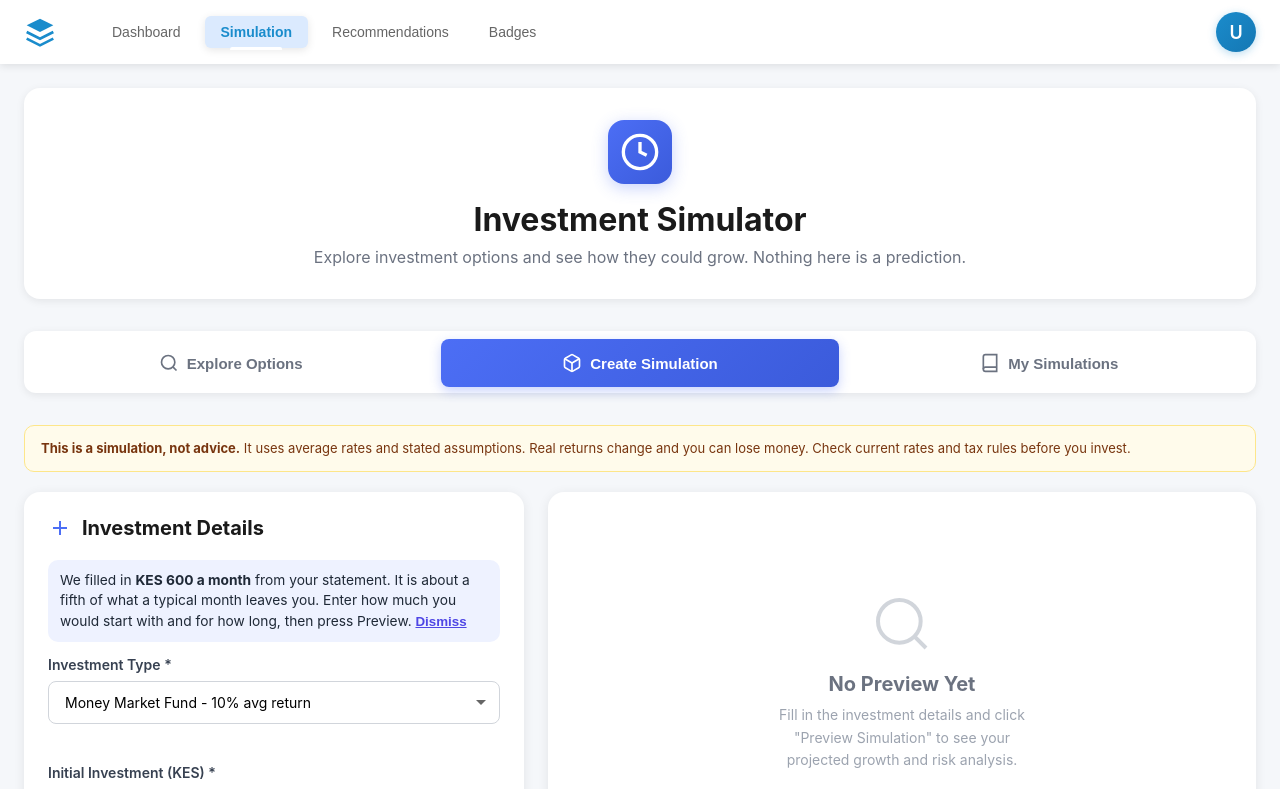
Opened from a recommendation › dismisses the note on request
The width and height of the screenshot is (1280, 789).
expect the text "We filled in" is shown: met, box [60,572,135,588]
Click the button "Dismiss": {"x": 441, "y": 622} [416,614,467,629]
(page scrolled)
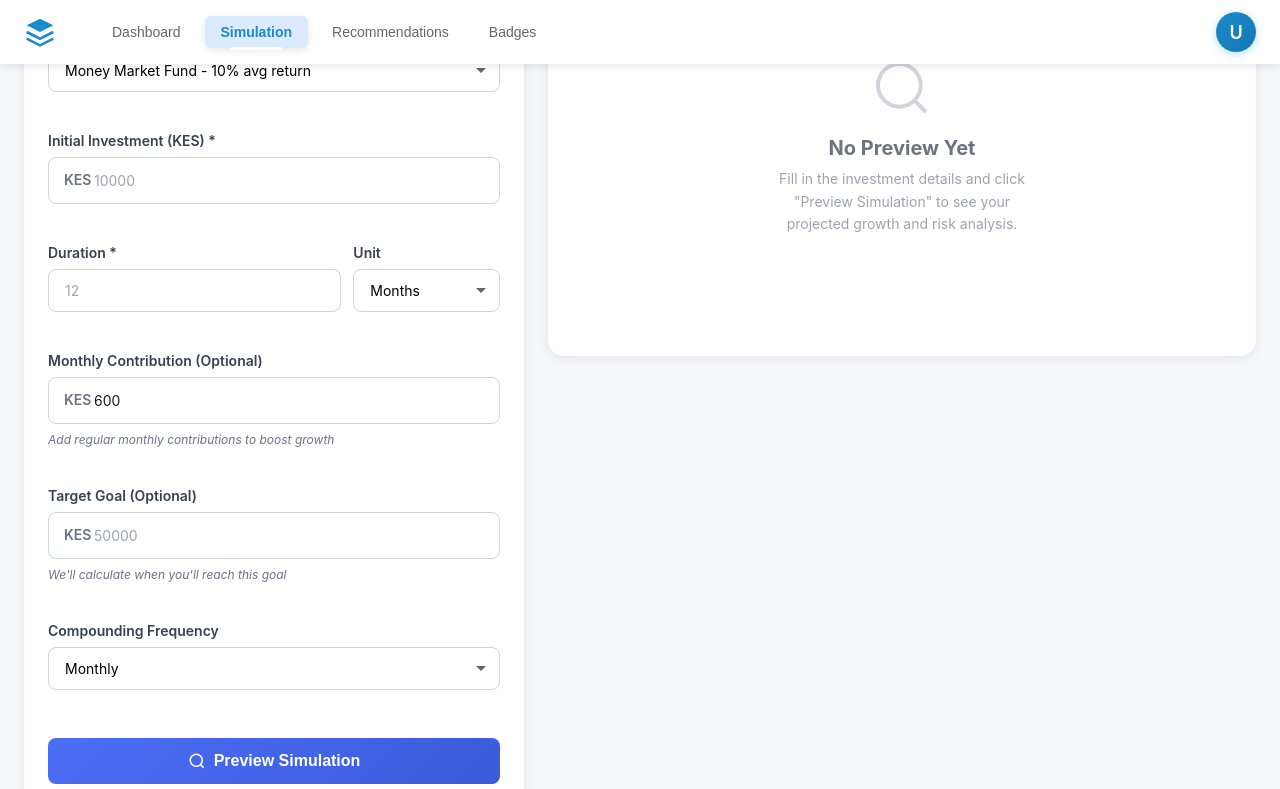
expect the field labelled "Monthly Contribution (Optional)" holds "600": met, box [48,377,500,424]
expect the text "We filled in" is gone: met
